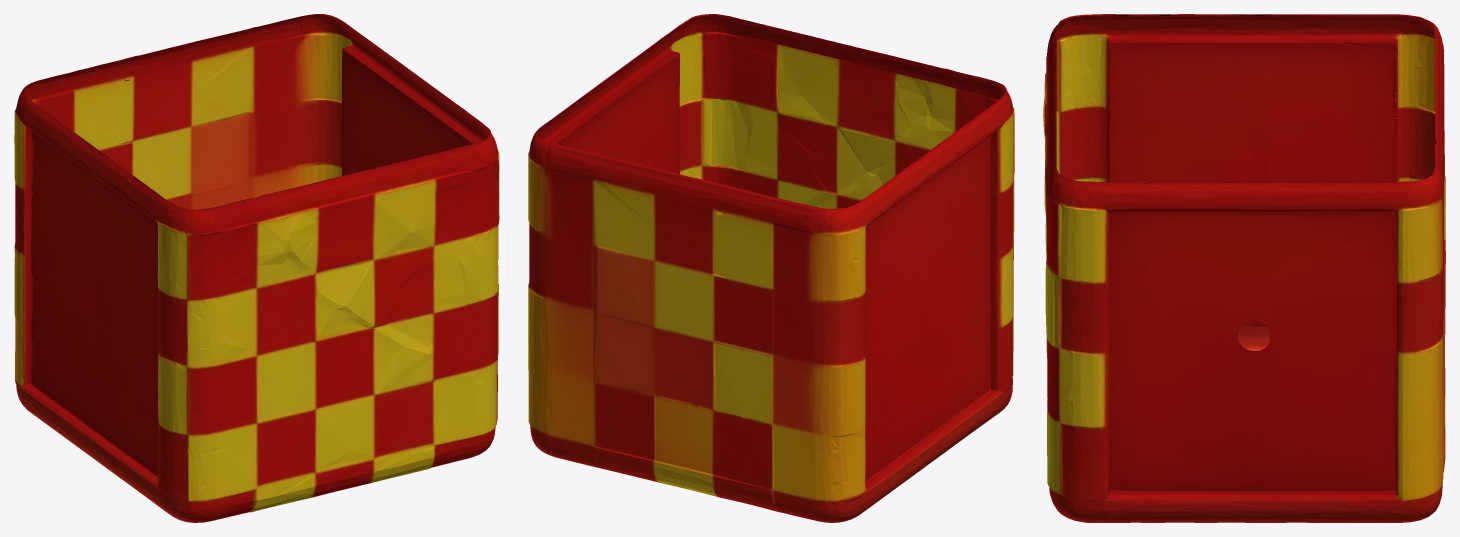
The model's file is body.glb.
3 renders of one model, left to right at view 1: azimuth 30°, elevation 25°; view 2: azimuth 150°, elevation 25°; view 3: azimuth 270°, elevation 25°, orthographic. The views are drawn at different scales.
Visible parts, largest first — view 1: source_surface_0; view 2: source_surface_0; view 3: source_surface_0.
Part boxes in pixels (bbox=[...]): source_surface_0: bbox=[14, 14, 499, 522]; source_surface_0: bbox=[528, 14, 1014, 522]; source_surface_0: bbox=[1043, 14, 1445, 522].
Size of the model in its own units: 0.1653 by 0.1529 by 0.1596.
Materials: 1 (1 with a texture image).
